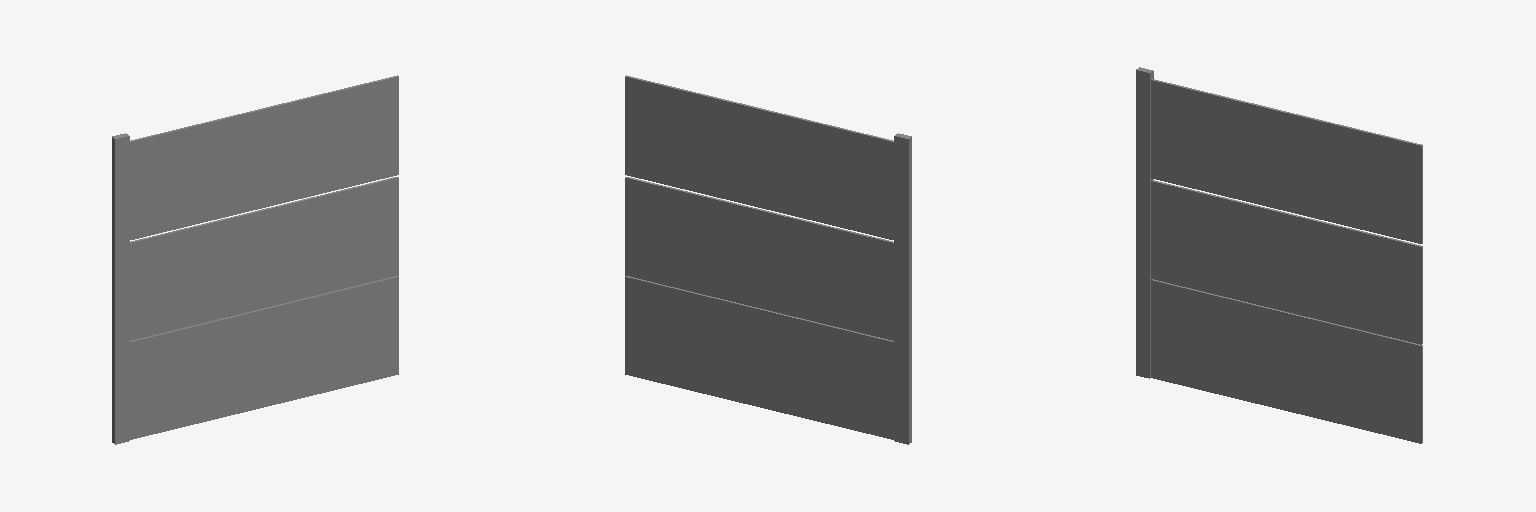
Rendered from fence-big_8.obj.
3 views of the same model, side by side, from view 1: azimuth 30°, elevation 25°; view 2: azimuth 150°, elevation 25°; view 3: azimuth 330°, elevation 25° (orthographic).
Parts seen in each view (by area): view 1: fence-big_8; view 2: fence-big_8; view 3: fence-big_8.
Part boxes in pixels (x1,y1,x2,y2): fence-big_8: (112, 75, 398, 444); fence-big_8: (625, 75, 911, 444); fence-big_8: (1136, 67, 1422, 443).
Bounding box in the file's own units: 40 × 41 × 0.9001.